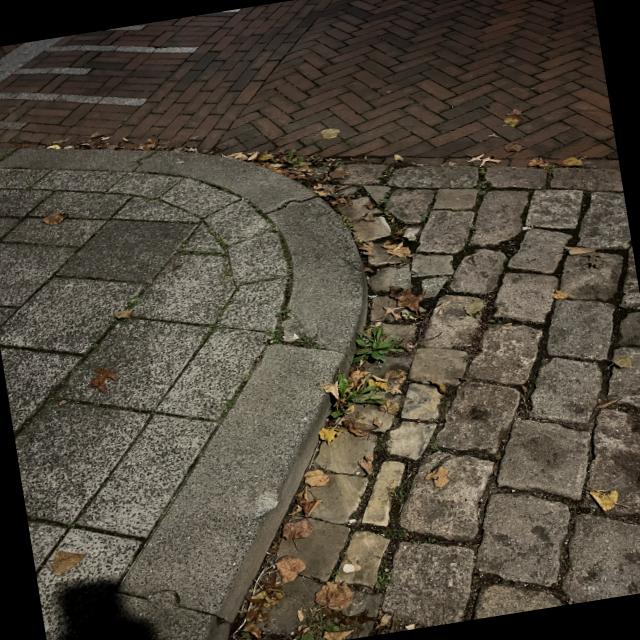leaves: (318, 368, 407, 449), (88, 365, 117, 395)
pavement: (0, 0, 639, 639)
weed: (326, 375, 381, 420)
weedling: (223, 399, 234, 412), (428, 439, 439, 451), (422, 538, 435, 545), (330, 570, 338, 577), (571, 504, 580, 510), (91, 343, 97, 351), (90, 402, 99, 407), (67, 523, 75, 528), (501, 580, 506, 585)
